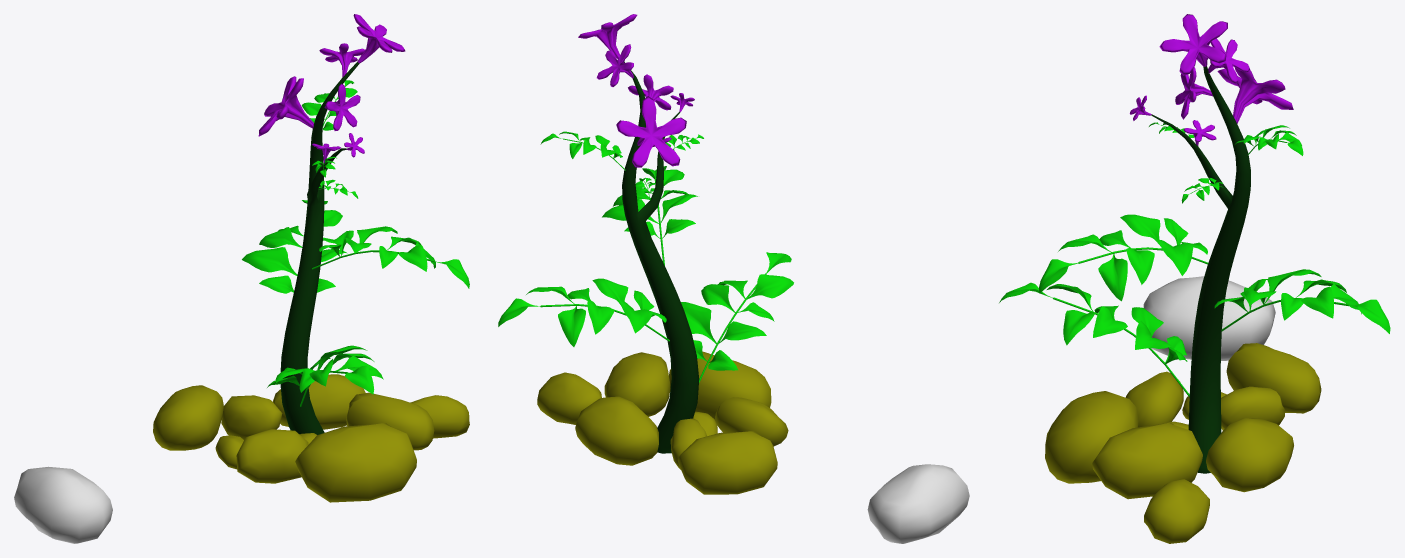
Rendered from Potato bush and potato.fbx.
3 renders of one model, left to right at view 1: azimuth 30°, elevation 25°; view 2: azimuth 150°, elevation 25°; view 3: azimuth 270°, elevation 25°, orthographic. The views are drawn at different scales.
Parts seen in each view (by area): view 1: Flower, Potato; view 2: Flower, Potato; view 3: Flower, Potato.
Boxes of the visible parts, x1,y1,x2,y2 form: Flower: [153, 14, 469, 502]; Potato: [14, 466, 112, 543]; Flower: [498, 14, 793, 494]; Potato: [867, 464, 969, 543]; Flower: [999, 14, 1390, 543]; Potato: [1143, 276, 1275, 360].
Bounding box in the file's own units: 5.18 × 5.12 × 3.64.
